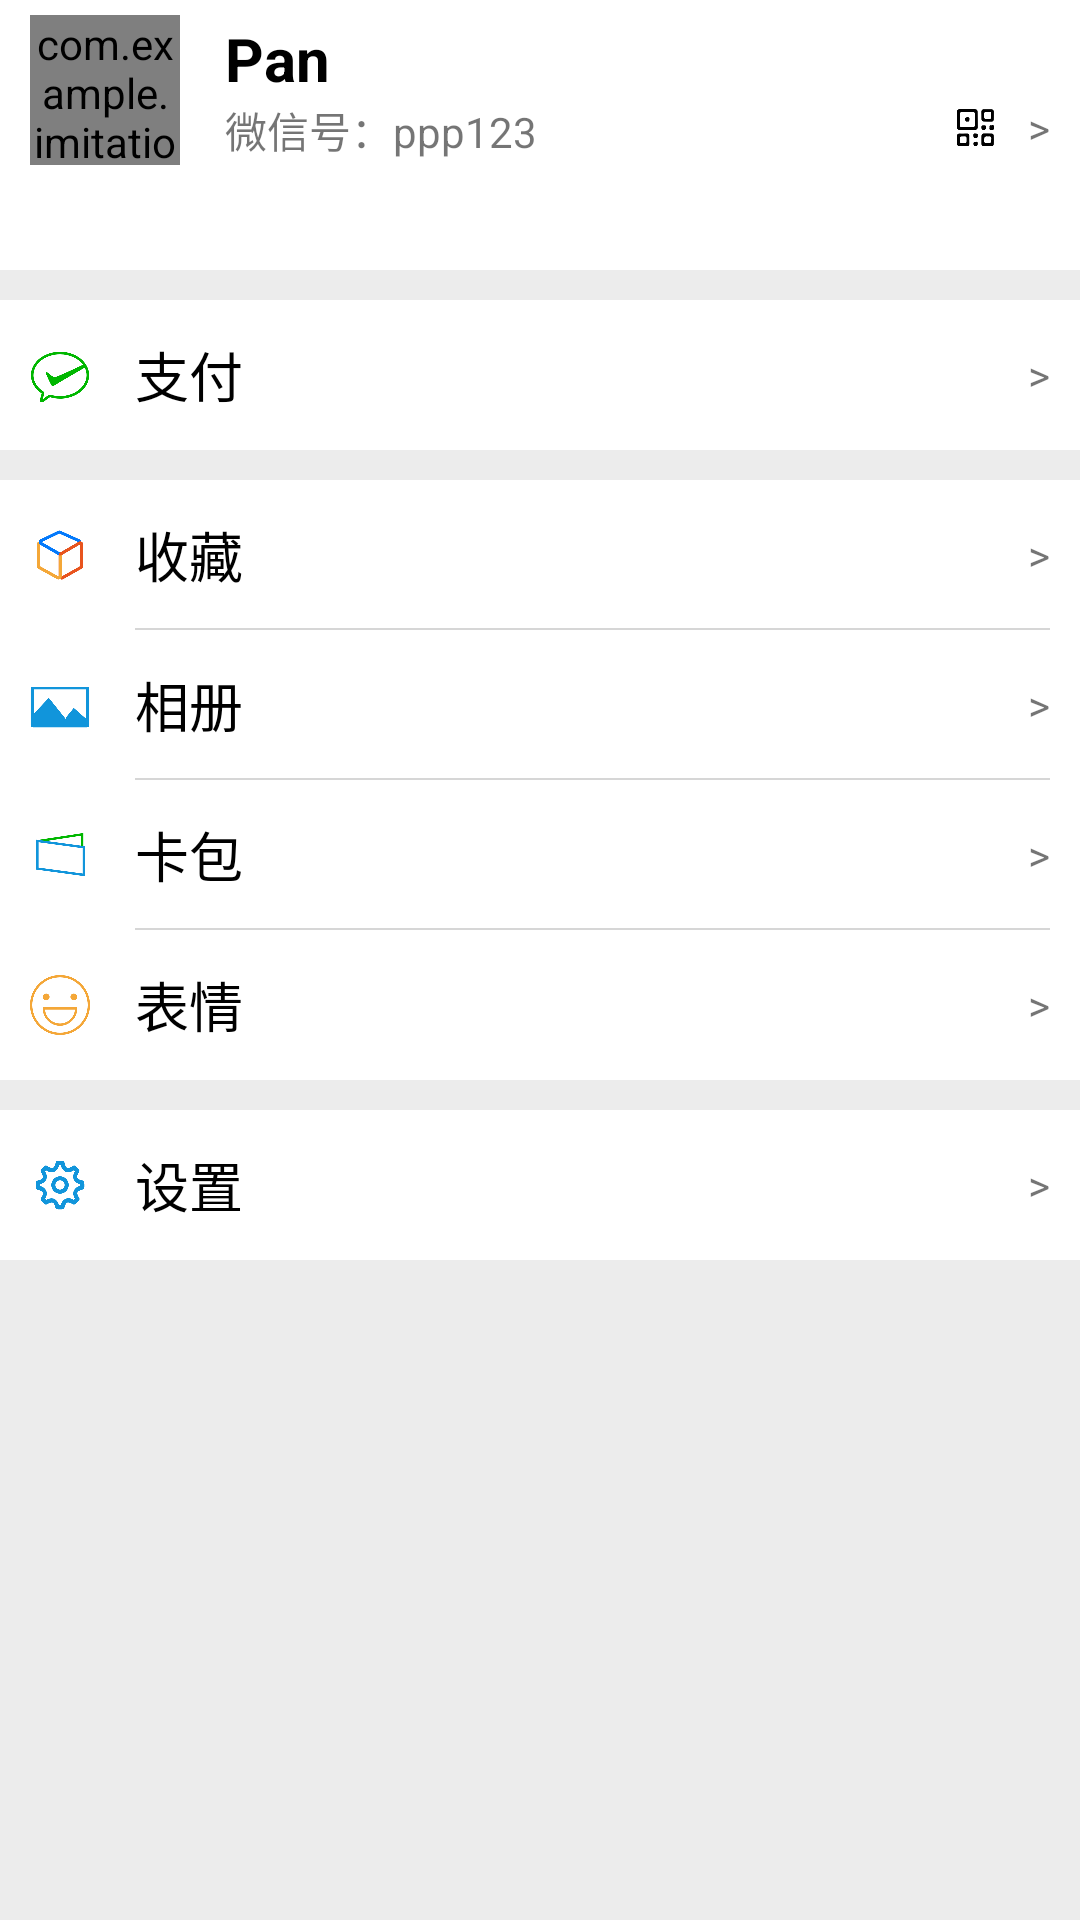

Screen size 1080×1920. Icon name, then its box in pixels as (x1, y1, x2, y2):
erweima: (957, 109, 994, 146)
expression: (30, 975, 90, 1035)
photo: (31, 687, 89, 728)
setting: (36, 1161, 85, 1210)
wallet: (36, 833, 85, 876)
